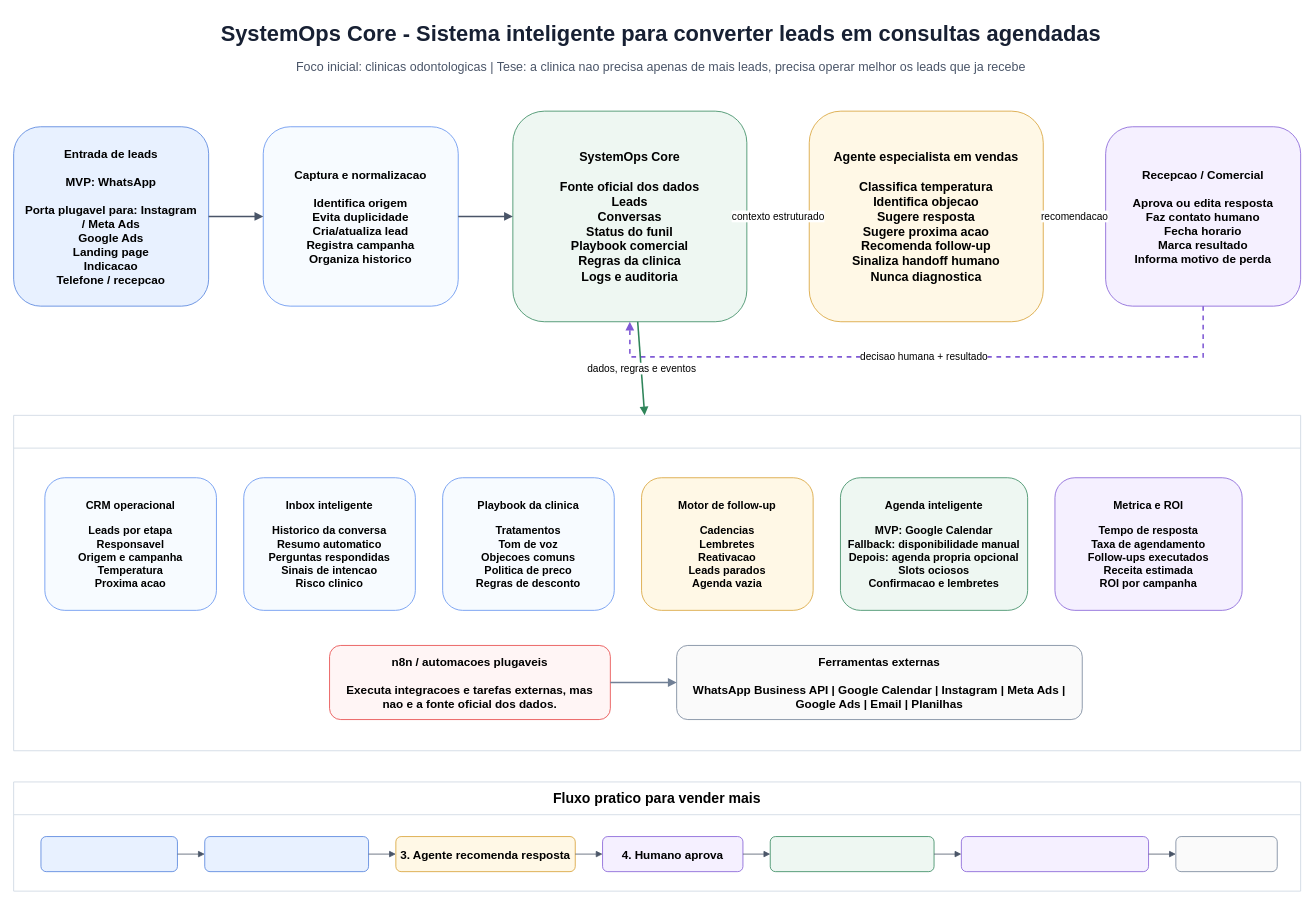
Image size: 1314x905. Some labels were removed from this diagram. The box of each missing label's shape, as (x1, y1, x2, y2) in pixels:
1. Lead chega: (40, 836, 177, 872)
2. Sistema entende contexto: (204, 836, 369, 872)
5. Agenda e follow-up: (769, 836, 934, 872)
6. Resultado vira aprendizado: (961, 836, 1149, 872)
7. Gestor ve ROI: (1175, 836, 1277, 872)
Camadas do produto SystemOps: (13, 415, 1301, 751)
